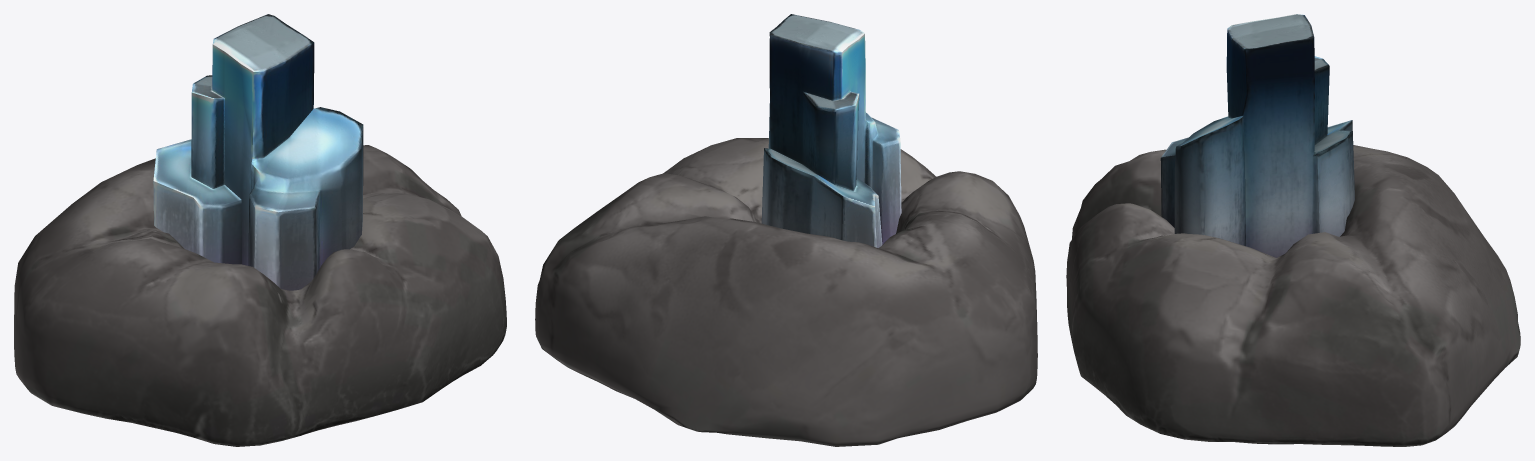
Rendered from ore_deposit_blue_dream.glb.
3 renders of one model, left to right at view 1: azimuth 30°, elevation 25°; view 2: azimuth 150°, elevation 25°; view 3: azimuth 270°, elevation 25°, orthographic. The views are drawn at different scales.
Visible parts, largest first — view 1: ore_deposit_blue; view 2: ore_deposit_blue; view 3: ore_deposit_blue.
Part boxes in pixels (x1,y1,x2,y2): ore_deposit_blue: [14, 14, 506, 446]; ore_deposit_blue: [535, 14, 1037, 446]; ore_deposit_blue: [1066, 14, 1520, 446].
Bounding box in the file's own units: 0.5129 × 0.3579 × 0.455.
Materials: 1 (1 with a texture image).
